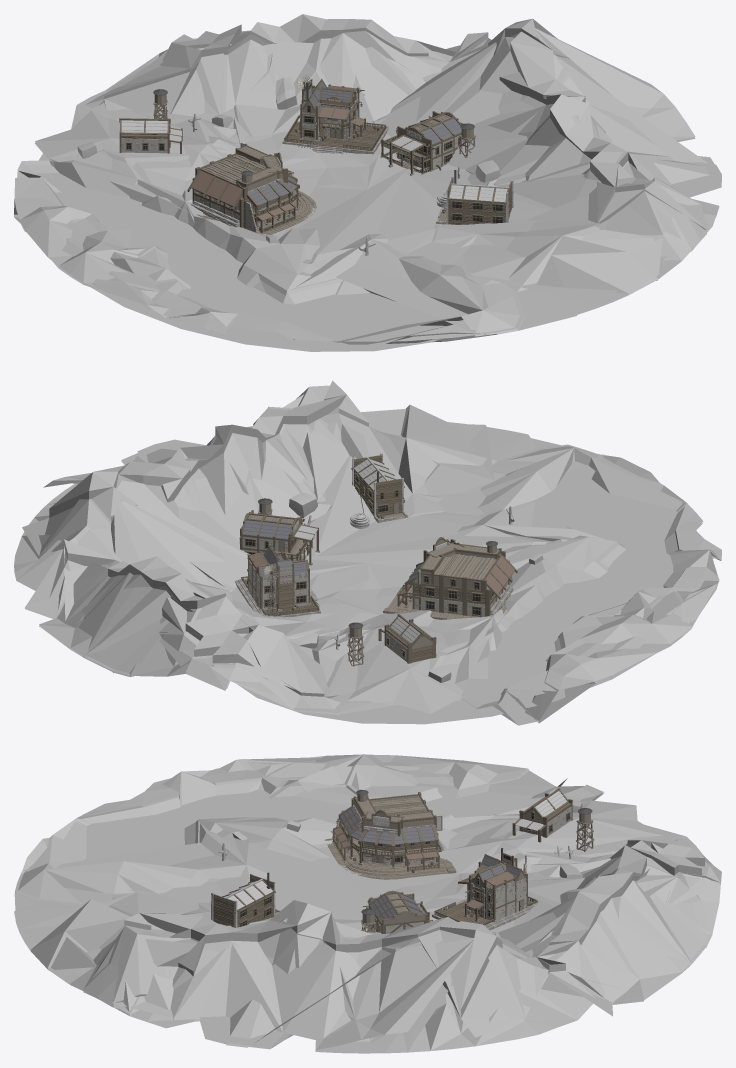
The model's file is wild west old town scene.fbx.
The picture shows the model from 3 angles, top to bottom: view 1: azimuth 30°, elevation 25°; view 2: azimuth 150°, elevation 25°; view 3: azimuth 270°, elevation 25°; orthographic projection.
Visible parts, largest first — view 1: pDisc1, pDisc3, pDisc4, pDisc12, pDisc2, pCube1000, log74, stonewallquarter140, pDisc5, RoofBeam162, RoofBeam182, stone98 (+1 smaller); view 2: pDisc1, pDisc3, pDisc4, pDisc12, pDisc2, pCube1000, log74, stonewallquarter140, pDisc5, RoofBeam162, RoofBeam182, stone98; view 3: pDisc1, pDisc3, pDisc4, pDisc12, pDisc2, pCube1000, log74, RoofBeam162, stonewallquarter140, RoofBeam182.
Boxes of the visible parts, bbox=[...] form: pDisc1: bbox=[35, 30, 721, 333]; pDisc3: bbox=[16, 28, 721, 342]; pDisc4: bbox=[14, 44, 721, 344]; pDisc12: bbox=[14, 14, 707, 343]; pDisc2: bbox=[36, 153, 445, 341]; pCube1000: bbox=[187, 142, 316, 235]; log74: bbox=[282, 75, 388, 154]; stonewallquarter140: bbox=[380, 111, 475, 175]; pDisc5: bbox=[91, 287, 440, 351]; RoofBeam162: bbox=[436, 170, 513, 224]; RoofBeam182: bbox=[119, 118, 182, 153]; stone98: bbox=[211, 114, 500, 182]; pDisc1: bbox=[39, 385, 603, 711]; pDisc3: bbox=[25, 418, 721, 713]; pDisc4: bbox=[14, 404, 721, 725]; pDisc12: bbox=[22, 380, 721, 723]; pDisc2: bbox=[356, 479, 696, 713]; pCube1000: bbox=[383, 537, 517, 619]; log74: bbox=[235, 546, 320, 617]; stonewallquarter140: bbox=[239, 498, 319, 565]; pDisc5: bbox=[238, 655, 653, 724]; RoofBeam162: bbox=[351, 453, 407, 522]; RoofBeam182: bbox=[378, 614, 436, 663]; stone98: bbox=[289, 493, 318, 648]; pDisc1: bbox=[19, 800, 720, 1050]; pDisc3: bbox=[15, 757, 712, 1050]; pDisc4: bbox=[14, 754, 721, 1053]; pDisc12: bbox=[14, 760, 708, 1047]; pDisc2: bbox=[83, 789, 582, 860]; pCube1000: bbox=[324, 789, 456, 879]; log74: bbox=[432, 848, 538, 930]; RoofBeam162: bbox=[211, 872, 280, 927]; stonewallquarter140: bbox=[361, 890, 432, 933]; RoofBeam182: bbox=[512, 788, 572, 842].
Size of the model in its own units: 13897 by 2385 by 13918.
